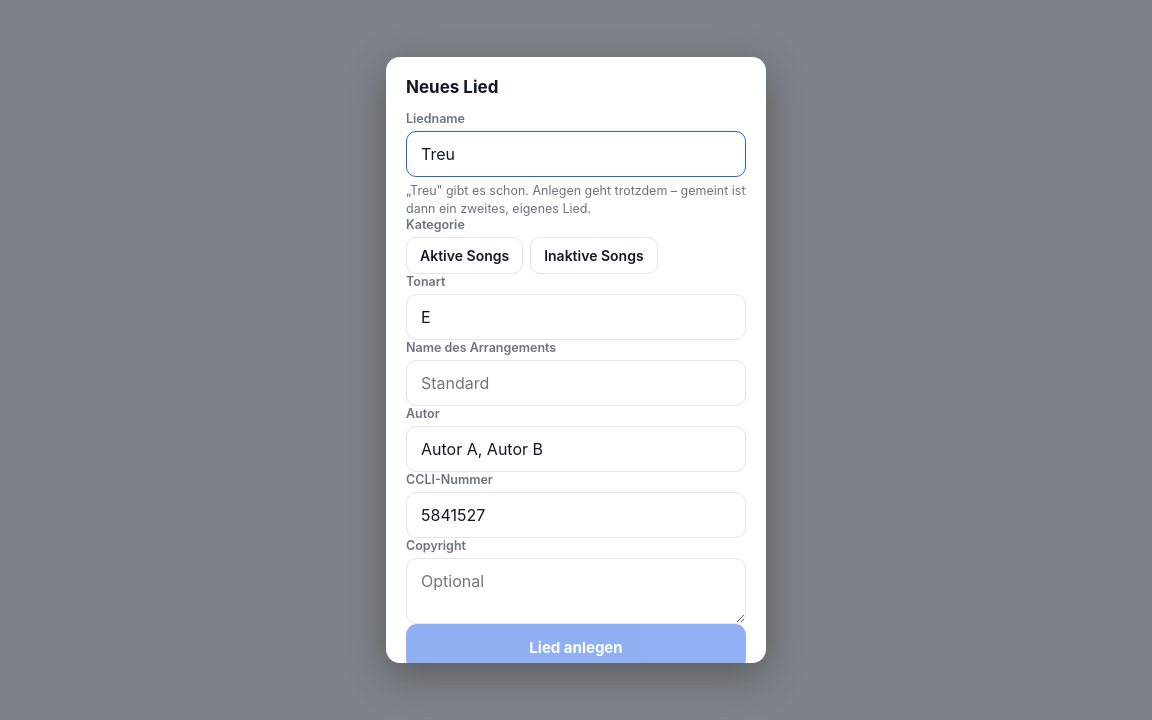
Test: NewSongSheet – gibt es das Lied schon? (#395) › „Trotzdem neu anlegen" legt OHNE die CCLI-Nummer an – die gehört dem vorhandenen Lied
Click the button "Aktive Songs" at (465, 256), box [406,237,523,274]
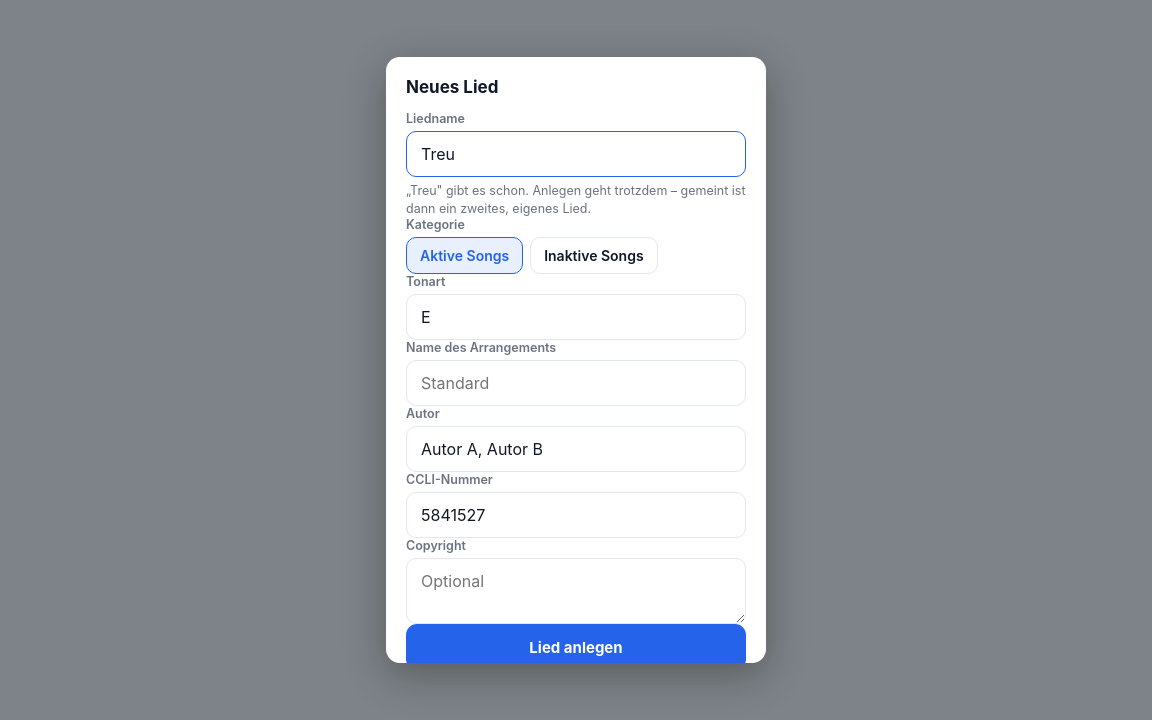
Click the button "Lied anlegen" at (576, 647), box [406,624,746,670]
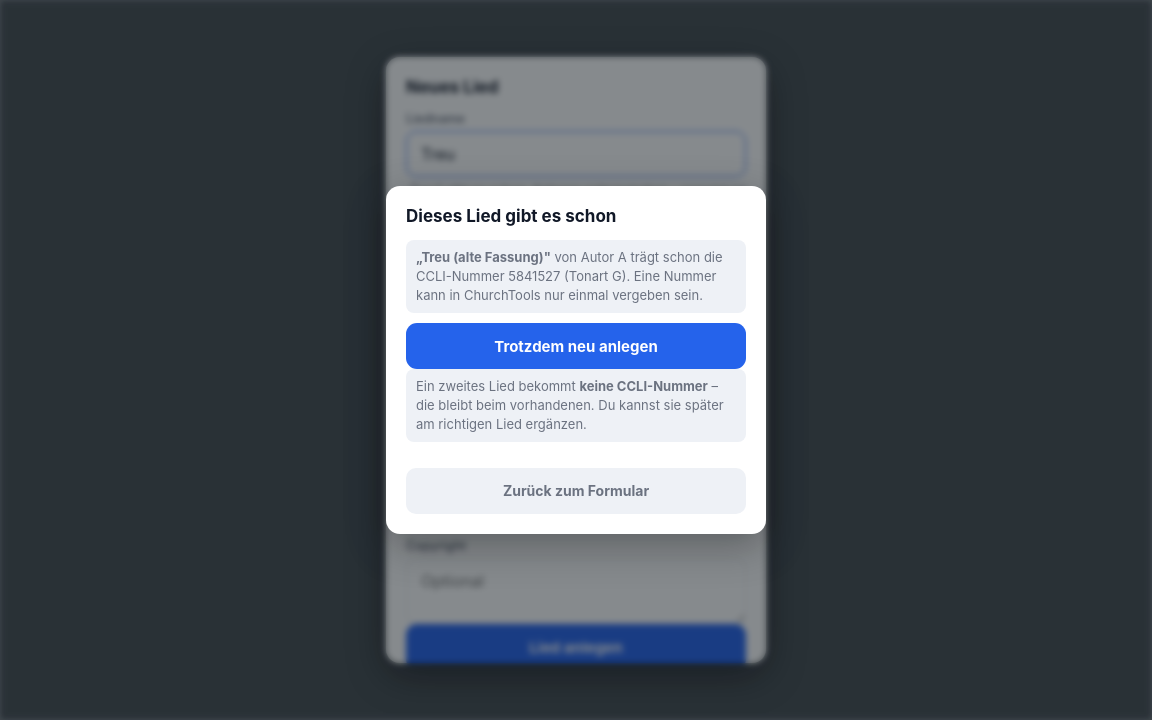
Click the button "Trotzdem neu anlegen" at (576, 346), box [406,323,746,369]
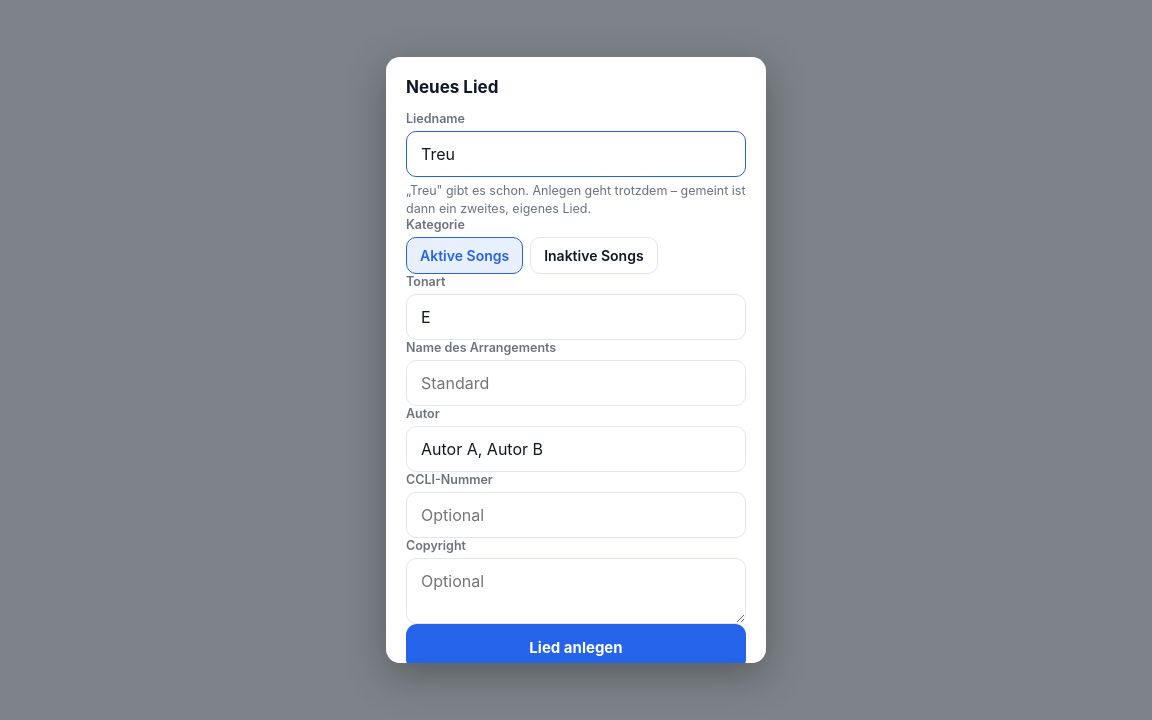
Now the text "Dieses Lied gibt es schon" is gone
